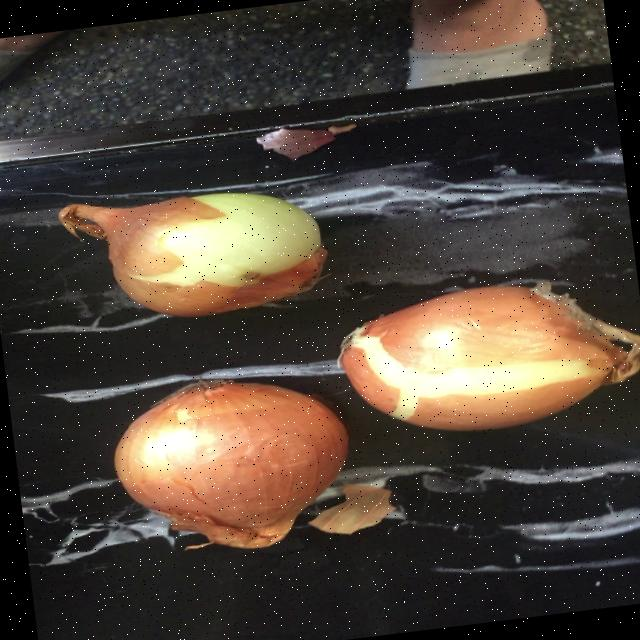Onion: (340, 281, 640, 429), (113, 378, 347, 547), (57, 192, 326, 315)
